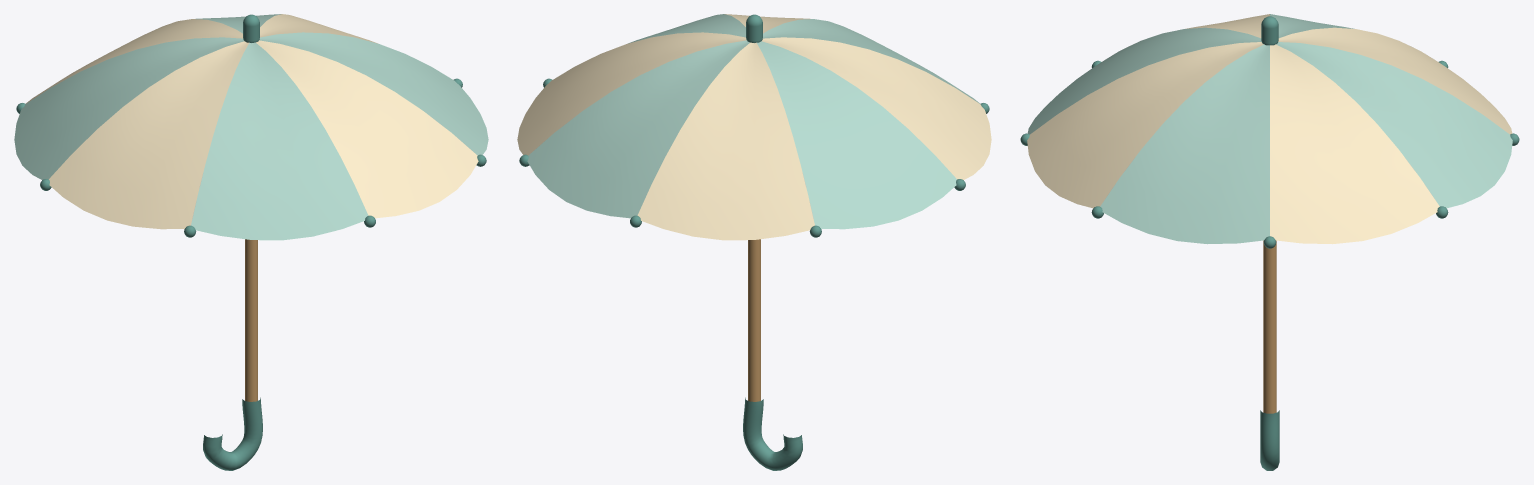
The model's file is umbrella.glb.
3 renders of one model, left to right at view 1: azimuth 30°, elevation 25°; view 2: azimuth 150°, elevation 25°; view 3: azimuth 270°, elevation 25°, orthographic. The views are drawn at different scales.
Visible parts, largest first — view 1: Umbrella_canopy_2, Umbrella_canopy_3, Umbrella_canopy_1, Umbrella_canopy_4, Umbrella_canopy_0, Umbrella_canopy_5, Umbrella_shaft, Umbrella_hook, Umbrella_canopy_7; view 2: Umbrella_canopy_5, Umbrella_canopy_4, Umbrella_canopy_6, Umbrella_canopy_3, Umbrella_canopy_7, Umbrella_canopy_2, Umbrella_shaft, Umbrella_hook, Umbrella_canopy_0; view 3: Umbrella_canopy_0, Umbrella_canopy_7, Umbrella_canopy_1, Umbrella_canopy_6, Umbrella_canopy_2, Umbrella_canopy_5, Umbrella_shaft, Umbrella_hook, Umbrella_canopy_3, Umbrella_canopy_4.
Boxes of the visible parts, x1,y1,x2,y2 form: Umbrella_canopy_2: (191, 42, 368, 240); Umbrella_canopy_3: (49, 41, 248, 229); Umbrella_canopy_1: (256, 40, 478, 218); Umbrella_canopy_4: (14, 37, 243, 179); Umbrella_canopy_0: (259, 32, 488, 155); Umbrella_canopy_5: (26, 19, 242, 103); Umbrella_shaft: (245, 239, 257, 401); Umbrella_hook: (203, 397, 262, 470); Umbrella_canopy_7: (260, 14, 377, 43); Umbrella_canopy_5: (637, 42, 814, 240); Umbrella_canopy_4: (757, 41, 956, 229); Umbrella_canopy_6: (527, 40, 749, 218); Umbrella_canopy_3: (762, 37, 991, 179); Umbrella_canopy_7: (517, 32, 746, 155); Umbrella_canopy_2: (763, 19, 979, 103); Umbrella_shaft: (748, 239, 760, 401); Umbrella_hook: (743, 397, 802, 470); Umbrella_canopy_0: (628, 14, 745, 43); Umbrella_canopy_0: (1100, 44, 1269, 244); Umbrella_canopy_7: (1270, 44, 1439, 244); Umbrella_canopy_1: (1027, 42, 1263, 208); Umbrella_canopy_6: (1276, 42, 1512, 208); Umbrella_canopy_2: (1027, 27, 1261, 134); Umbrella_canopy_5: (1278, 27, 1512, 134); Umbrella_shaft: (1263, 240, 1276, 413); Umbrella_hook: (1260, 410, 1279, 470); Umbrella_canopy_3: (1185, 14, 1269, 38); Umbrella_canopy_4: (1270, 14, 1354, 38).
Bounding box in the file's own units: 1.99 × 2.03 × 1.99.
